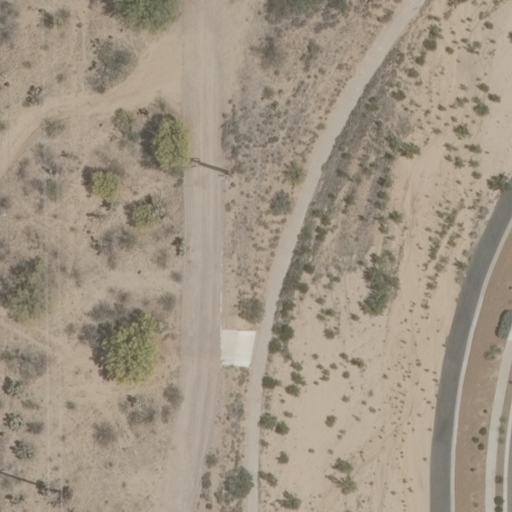DT: (37, 479, 82, 508)
